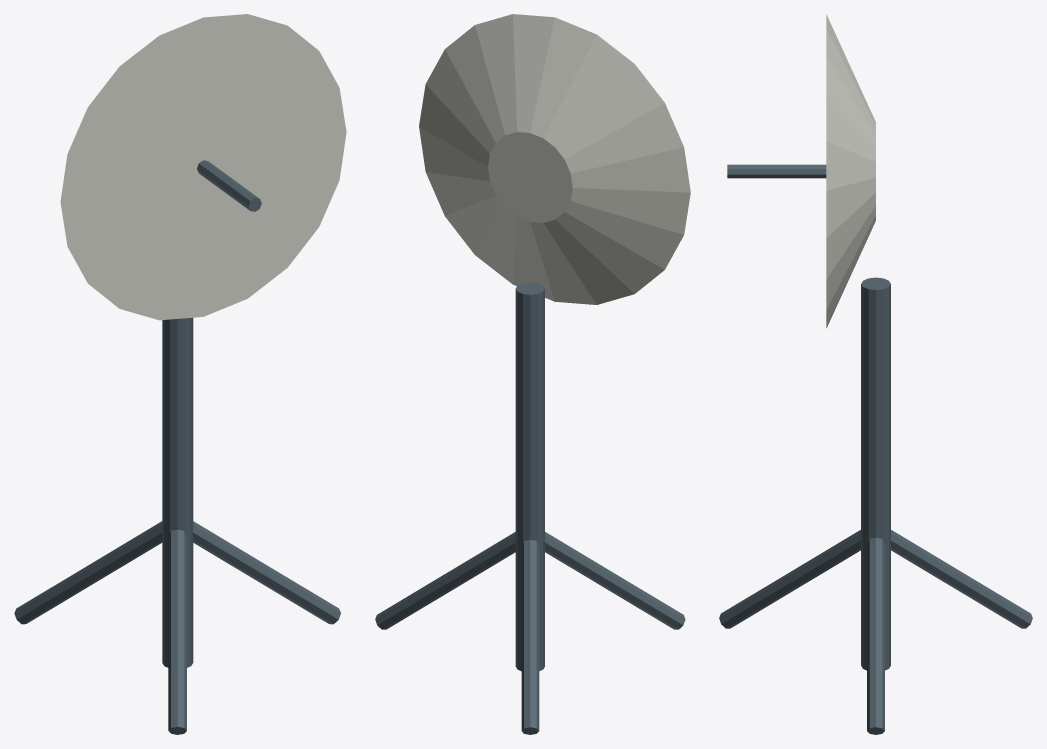
Rendered from american-football-stadium-kit-field-microphone-1129c7a5.glb.
3 renders of one model, left to right at view 1: azimuth 30°, elevation 25°; view 2: azimuth 150°, elevation 25°; view 3: azimuth 270°, elevation 25°, orthographic. The views are drawn at different scales.
Visible parts, largest first — view 1: field-microphone; view 2: field-microphone; view 3: field-microphone.
Part boxes in pixels (left/top/right/bottom): field-microphone: left=14, top=14, right=346, bottom=734; field-microphone: left=375, top=14, right=690, bottom=734; field-microphone: left=719, top=14, right=1032, bottom=734.
Size of the model in its own units: 0.6813 by 1.42 by 0.6327.
